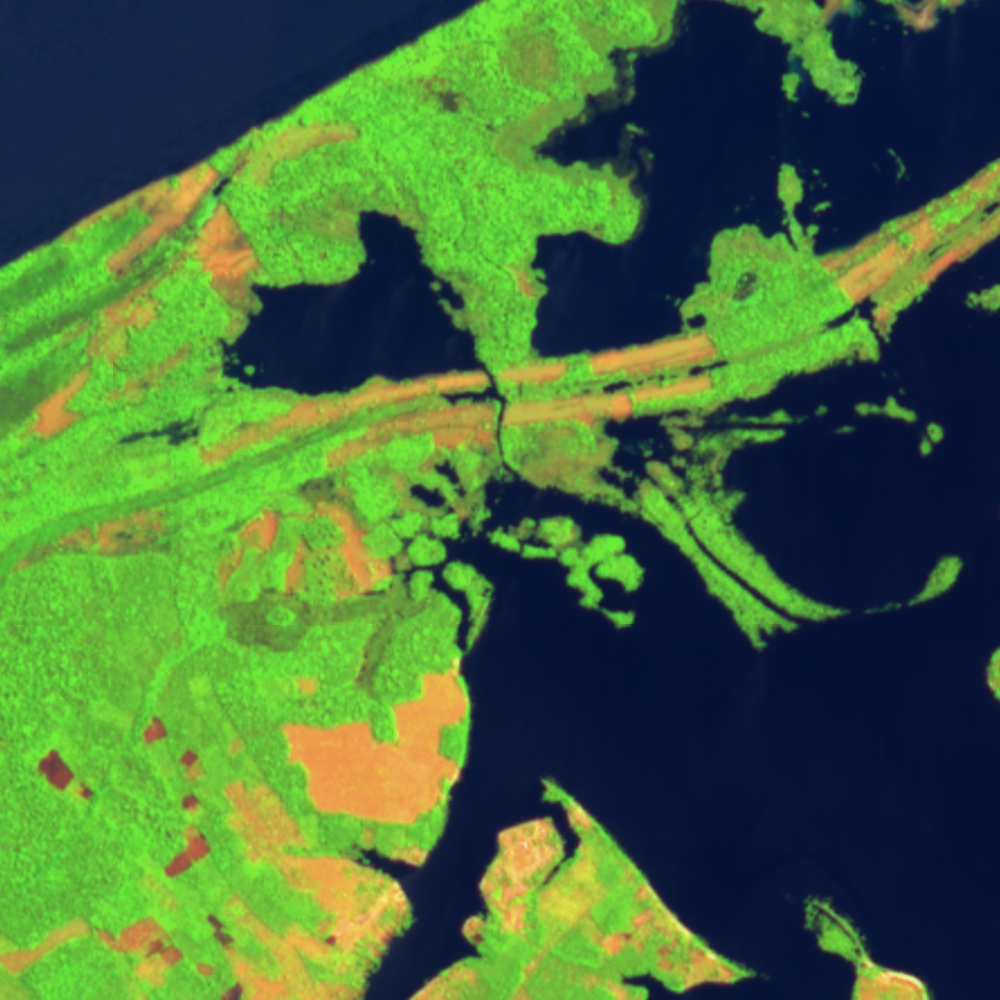legal: (481, 394, 957, 662), (12, 166, 265, 436), (214, 193, 511, 412), (521, 1, 680, 357), (199, 480, 472, 631), (688, 1, 972, 116), (286, 657, 473, 823), (234, 779, 412, 938), (552, 863, 753, 995), (199, 906, 385, 1000), (1, 914, 183, 993), (211, 113, 364, 201), (801, 896, 930, 1000), (131, 713, 210, 877), (38, 753, 101, 802)
